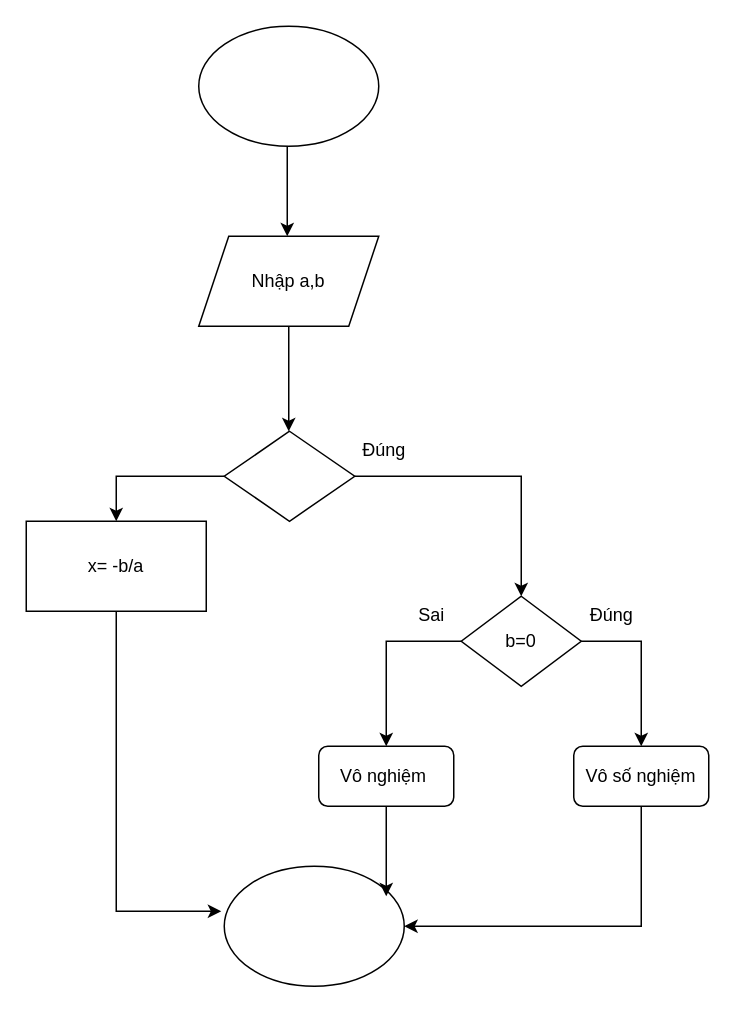
Some shapes in this 735 by 1013 pixel diagram are drawn without their labels. The shapes that lost their labels are listed below. From the top down, each one's centre as x and y in pixels, then its label:
the point at 288,85: Bắt đầu
the point at 289,475: a=0
the point at 313,925: end
